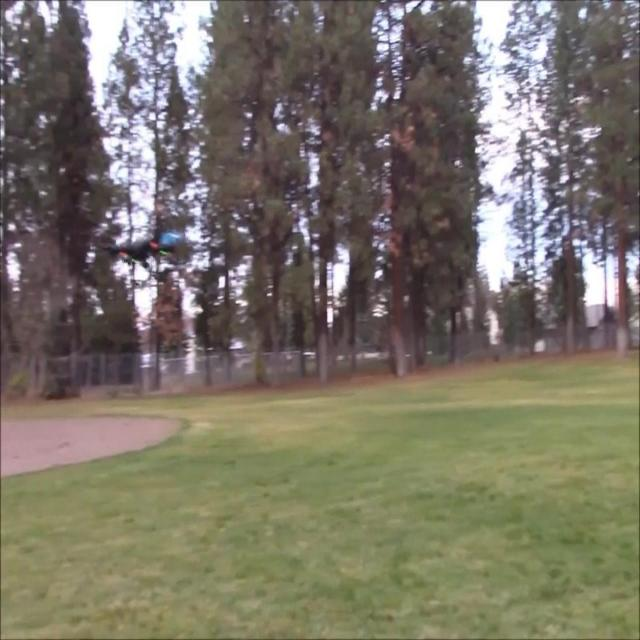UAV: (111, 228, 184, 270)
